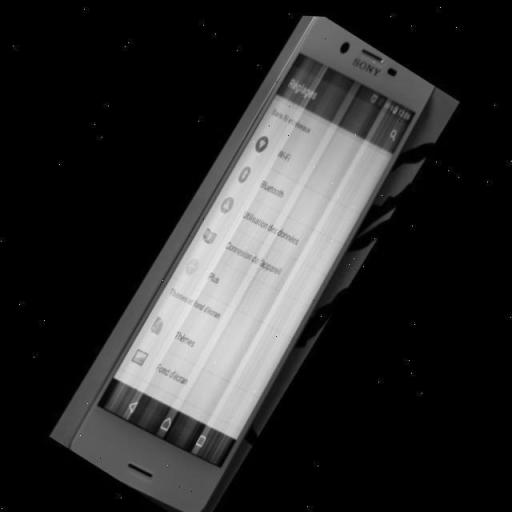phone: (71, 17, 433, 511)
